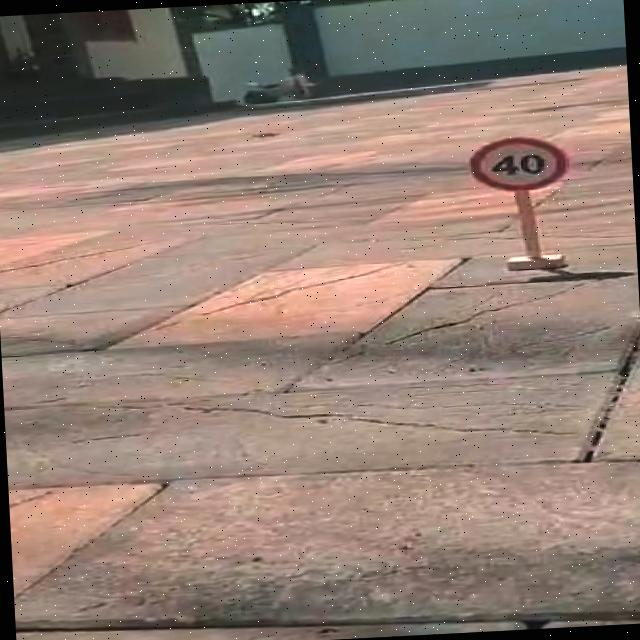Speed40: (462, 128, 578, 199)
